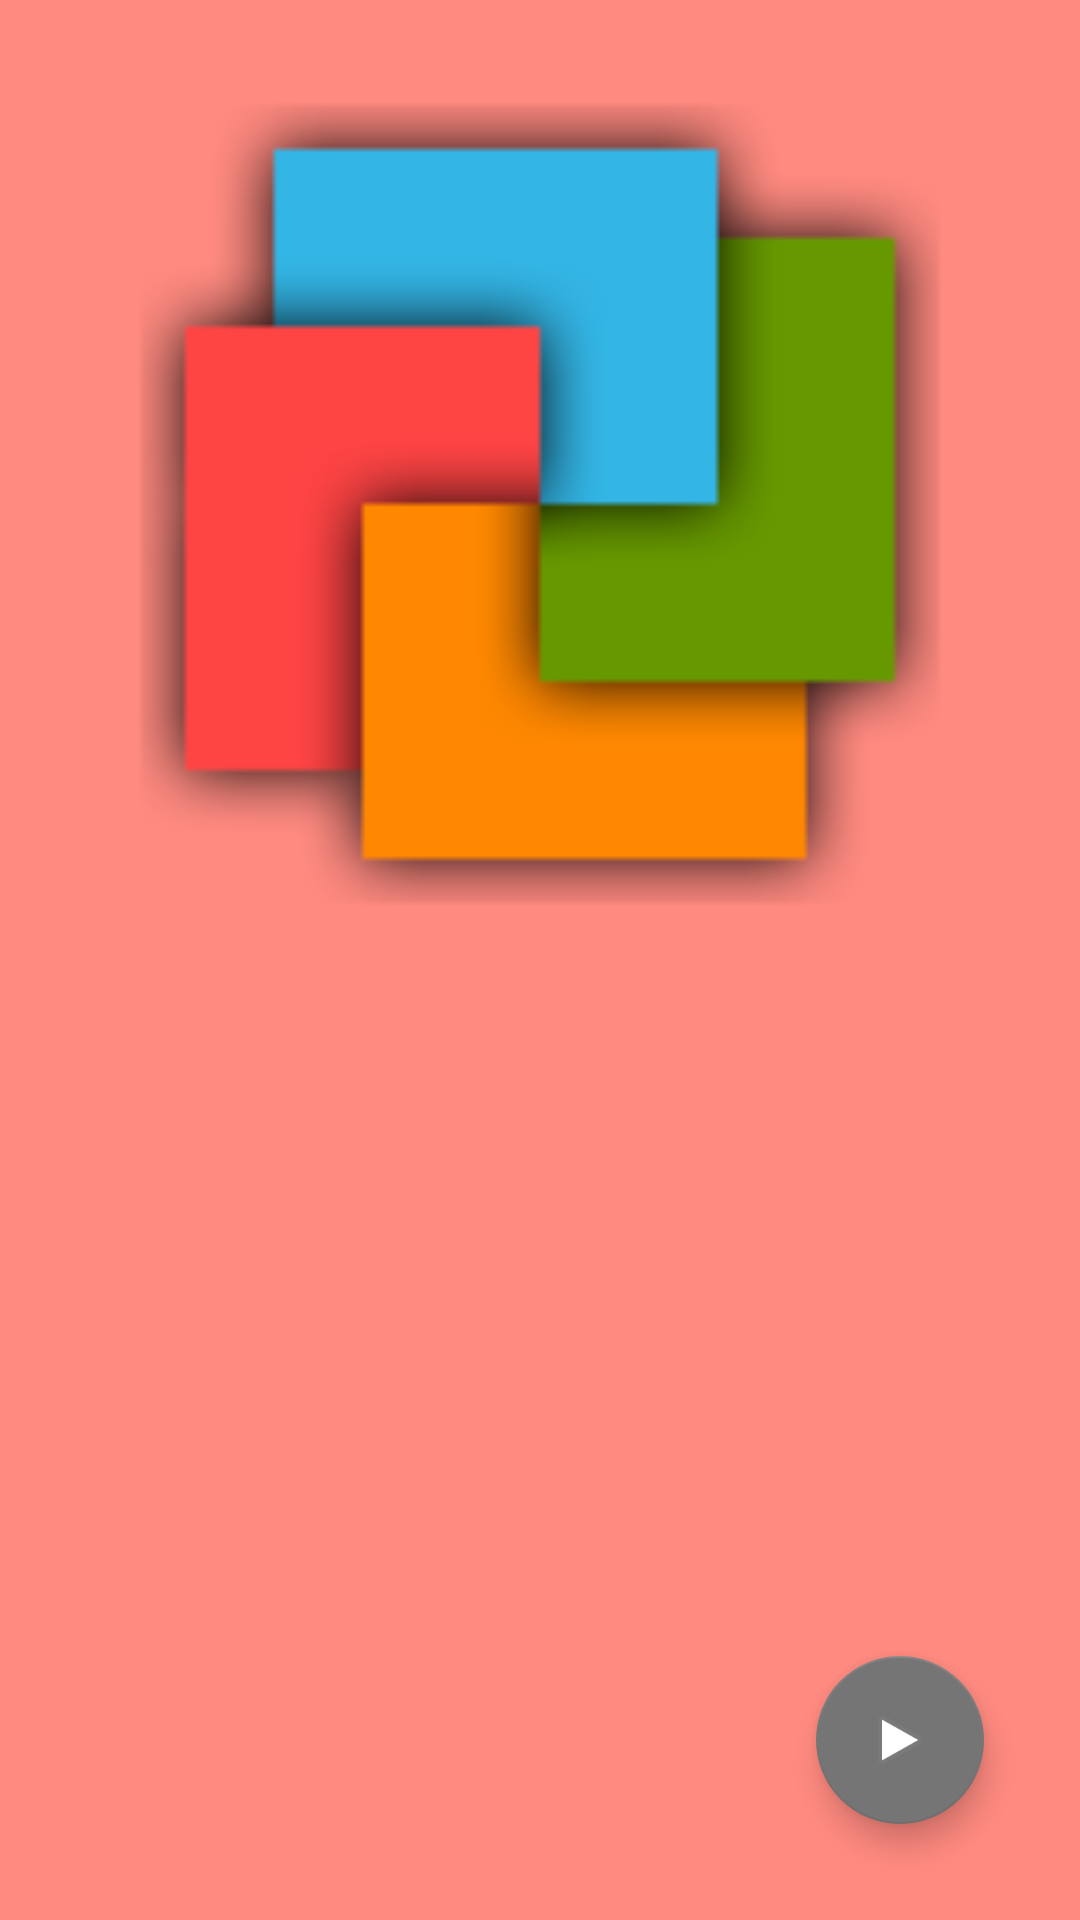

Where to tap for icons on this 1080 x 1920 app screen, as (x=x, y=y):
play: (x=900, y=1740)
